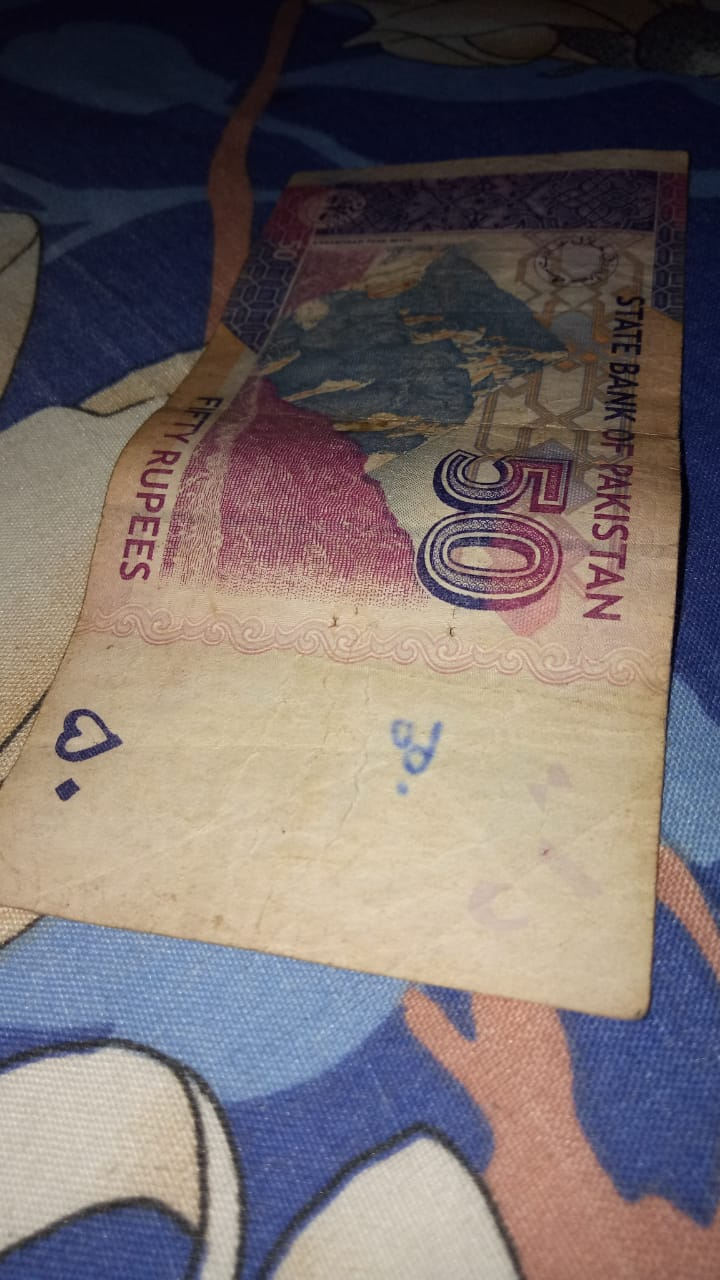50 rupee: (33, 114, 681, 1035)
